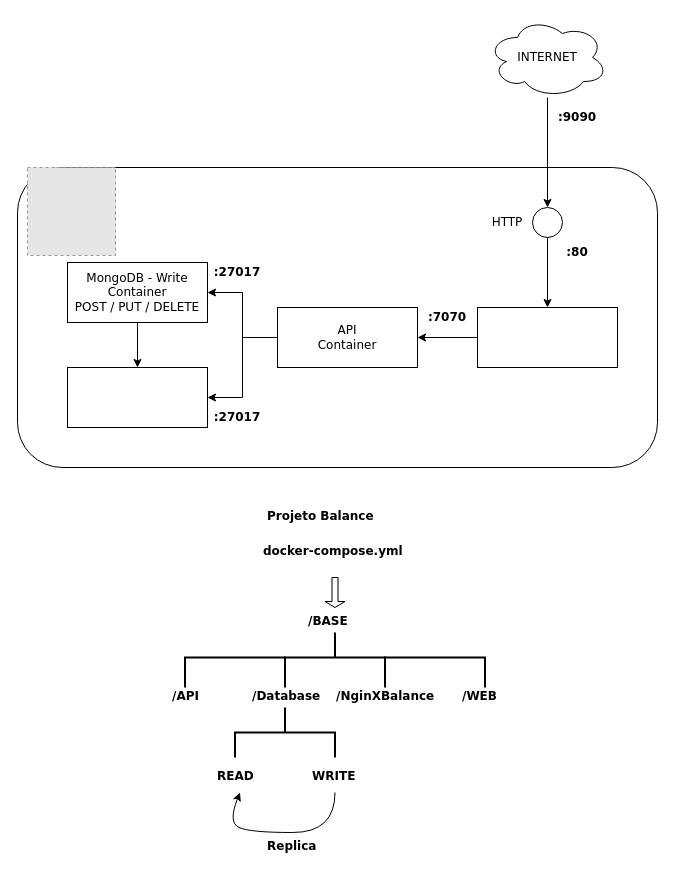
This 675x880 diagram has some shape labels left out. Grey dashed boxes stand in for pictures. The centre of each missing label's shape, as x and y in pixels:
"MongoDB - Read Container GET" goes at point 137,397.
"nginx Container" goes at point 547,337.
